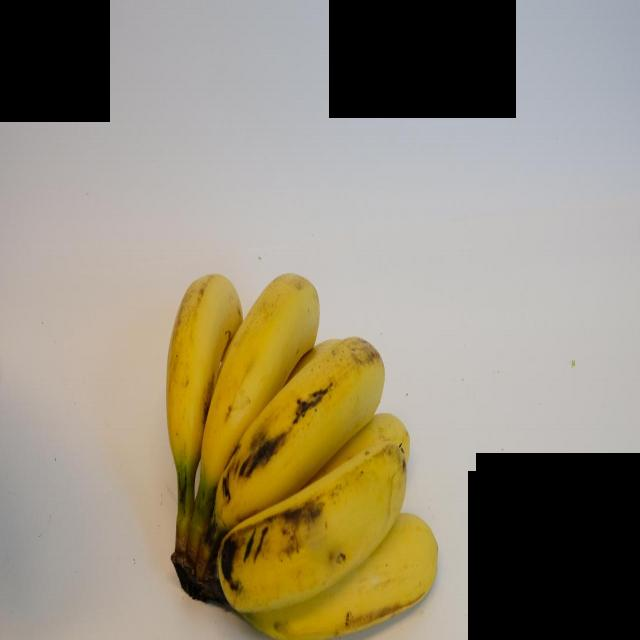banana: (204, 336, 386, 530), (193, 273, 334, 513), (218, 438, 410, 608), (237, 506, 442, 639), (164, 272, 246, 505)
